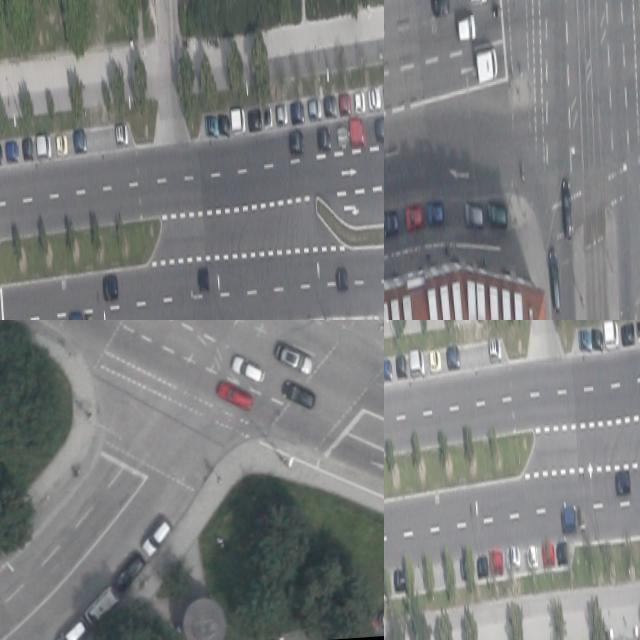UAI: (274, 339, 317, 378), (111, 550, 149, 594), (81, 585, 120, 627), (215, 376, 256, 414), (140, 519, 174, 558), (231, 352, 268, 387), (281, 377, 318, 411), (52, 615, 90, 640), (548, 247, 562, 314), (560, 175, 574, 239), (486, 200, 508, 228), (405, 202, 424, 232), (457, 14, 477, 42), (426, 198, 444, 228), (464, 201, 483, 229), (350, 117, 367, 148), (409, 347, 425, 378), (505, 543, 521, 571), (603, 320, 619, 348), (102, 274, 119, 300), (614, 471, 631, 497), (231, 106, 246, 134), (384, 208, 399, 236), (289, 127, 305, 153), (36, 132, 52, 158), (561, 506, 577, 532), (489, 549, 504, 575), (73, 128, 88, 153), (446, 344, 461, 369), (317, 125, 331, 151), (488, 335, 502, 360), (621, 322, 636, 345), (430, 0, 450, 17), (556, 539, 569, 565), (476, 553, 489, 579), (393, 566, 406, 592), (429, 347, 442, 373), (526, 541, 538, 569), (335, 267, 348, 292), (22, 136, 35, 161), (368, 86, 381, 111), (197, 266, 210, 291), (542, 541, 555, 566), (395, 352, 408, 377), (6, 140, 20, 163), (248, 108, 262, 131), (291, 100, 305, 123), (308, 97, 322, 120), (323, 94, 337, 117), (578, 327, 592, 350), (354, 88, 366, 113), (591, 326, 603, 351), (116, 123, 129, 146), (217, 113, 230, 136), (339, 92, 352, 115), (337, 123, 348, 149), (205, 114, 218, 136), (56, 132, 68, 155), (276, 102, 288, 124), (374, 115, 384, 140), (263, 104, 273, 127), (384, 358, 393, 381), (578, 507, 587, 529), (68, 310, 84, 320), (636, 320, 640, 341), (84, 312, 93, 320)
harvester: (475, 47, 499, 82)
